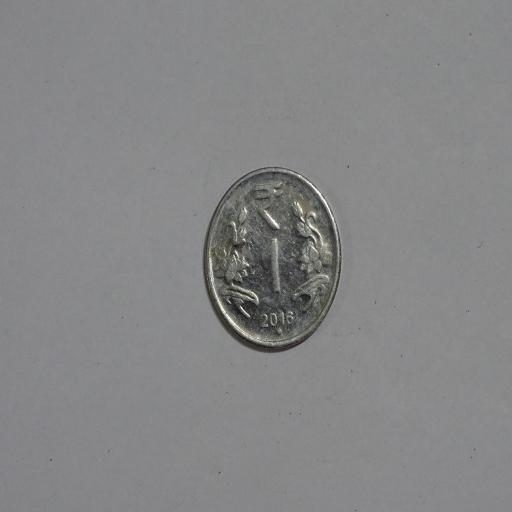rupee1: (201, 166, 342, 350)
